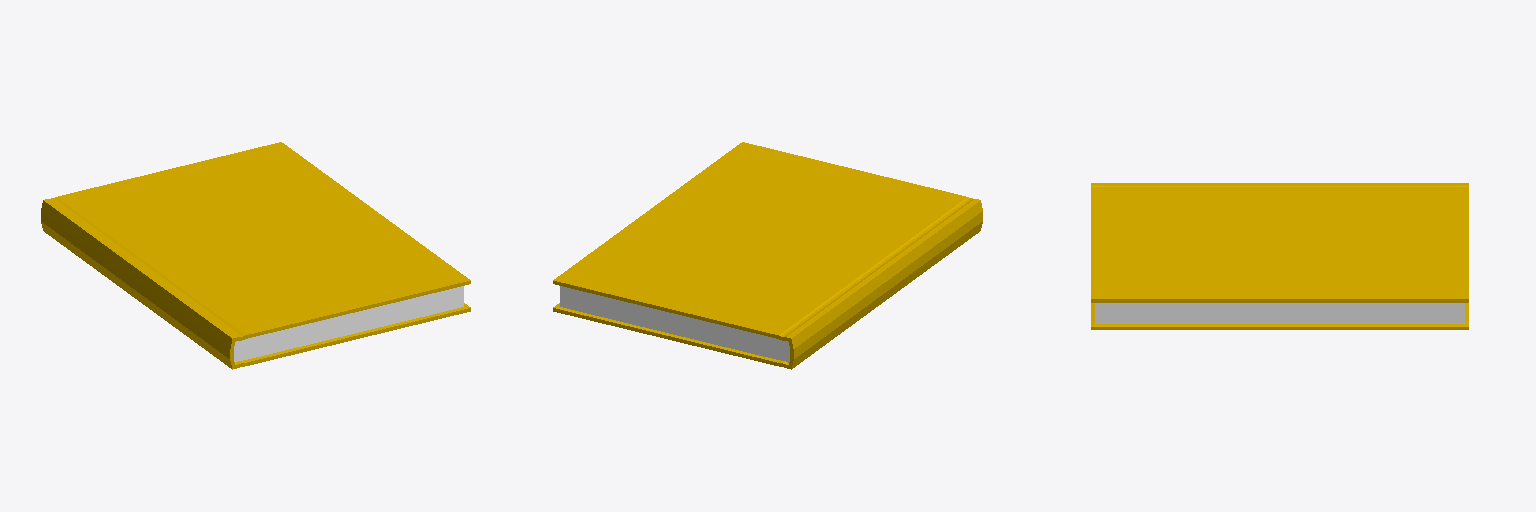
Rendered from book_yellow.obj.
3 views of the same model, side by side, from view 1: azimuth 30°, elevation 25°; view 2: azimuth 150°, elevation 25°; view 3: azimuth 270°, elevation 25° (orthographic).
Visible parts, largest first — view 1: Architexture_Plane; view 2: Architexture_Plane; view 3: Architexture_Plane.
Boxes of the visible parts, x1=… form: Architexture_Plane: x1=41, y1=142, x2=470, y2=369; Architexture_Plane: x1=553, y1=142, x2=982, y2=369; Architexture_Plane: x1=1091, y1=183, x2=1468, y2=329.
Bounding box in the file's own units: 0.7338 × 0.0904 × 1.